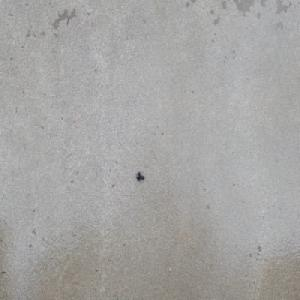BoltWasher: (136, 171, 145, 181)
